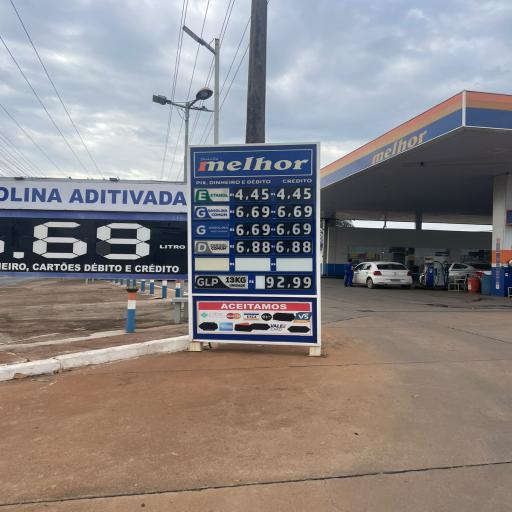ETANOL: (194, 188, 230, 202)
GASOLINA AD: (194, 222, 230, 236)
GASOLINA C: (194, 205, 229, 219)
S500: (194, 240, 229, 254)
placa: (189, 181, 318, 259)
preco: (235, 187, 271, 202), (236, 240, 271, 254), (234, 223, 270, 236), (236, 206, 270, 218)
